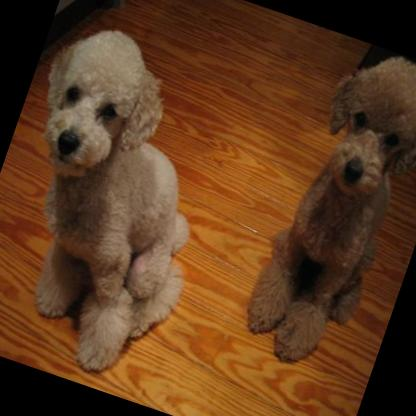toy_poodle: (0, 12, 252, 389), (232, 34, 416, 384)
